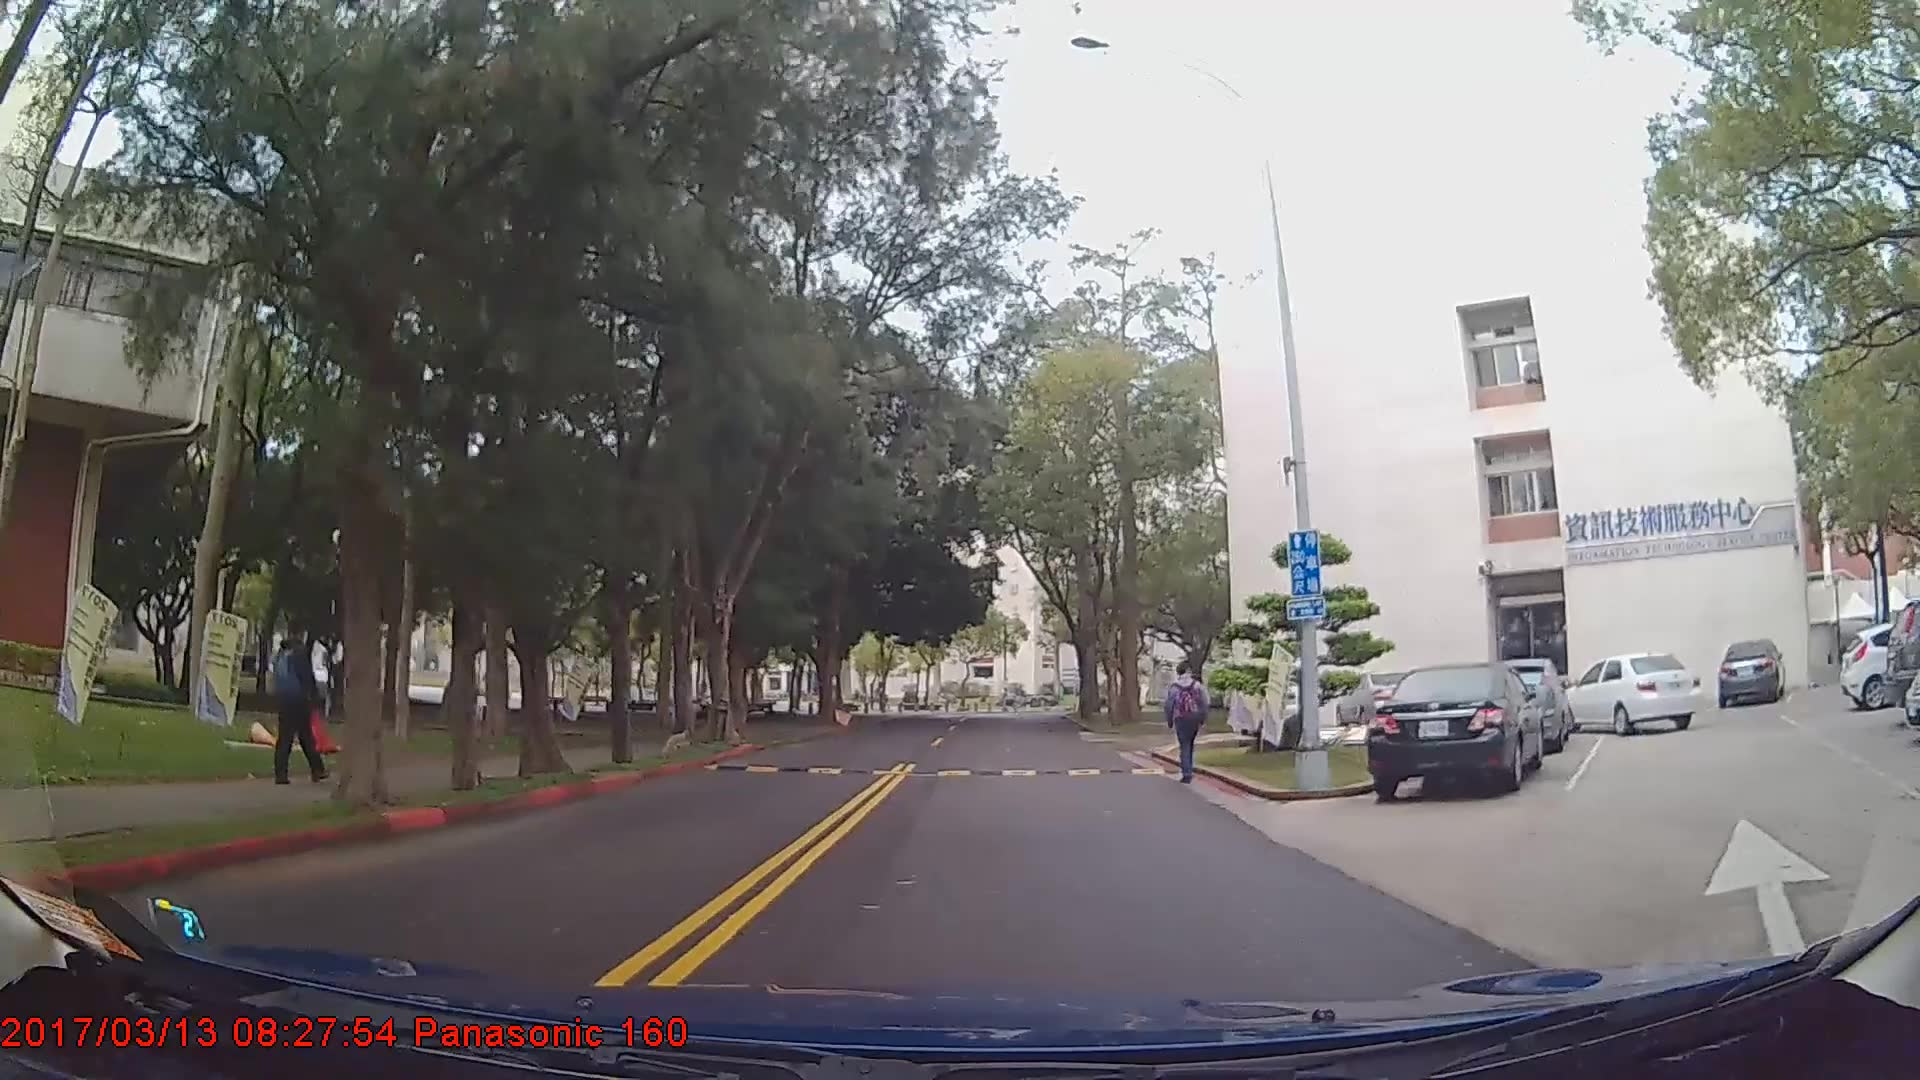pedestrian: (270, 612, 339, 789), (1165, 659, 1214, 785)
vehicle: (1366, 662, 1545, 803), (1565, 652, 1699, 737), (1837, 619, 1920, 711), (1716, 635, 1780, 709)
